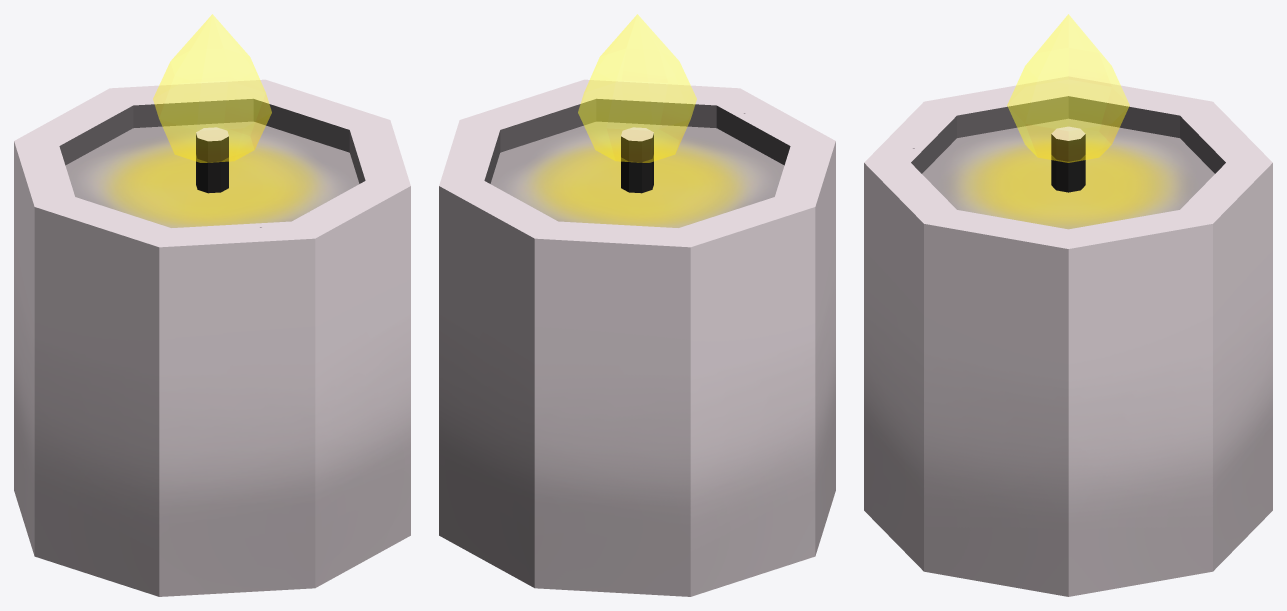
The model's file is Vela.glb.
3 views of the same model, side by side, from view 1: azimuth 30°, elevation 25°; view 2: azimuth 150°, elevation 25°; view 3: azimuth 270°, elevation 25° (orthographic).
Parts seen in each view (by area): view 1: Vela; view 2: Vela; view 3: Vela.
Boxes of the visible parts, bbox=[...] form: Vela: bbox=[14, 14, 410, 596]; Vela: bbox=[439, 14, 835, 596]; Vela: bbox=[864, 14, 1272, 596].
Size of the model in its own units: 20.61 by 27.63 by 20.61.
2 materials, 2 textured.
